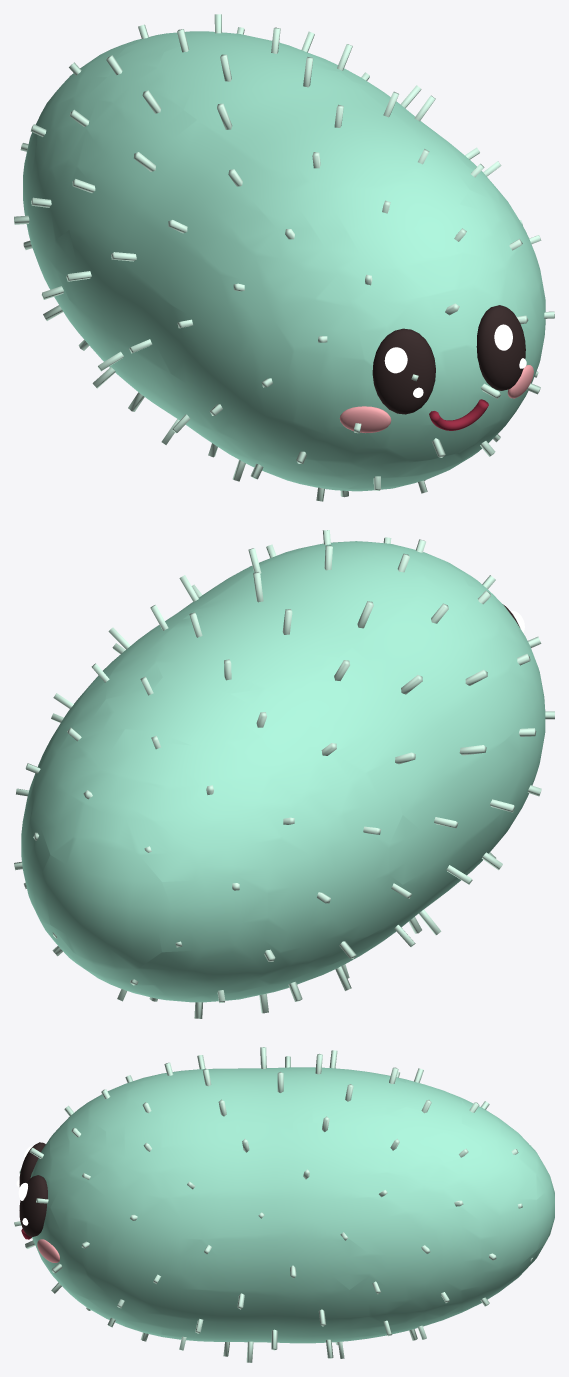
The model's file is P02_Para_Paramecium.glb.
The picture shows the model from 3 angles, top to bottom: view 1: azimuth 30°, elevation 25°; view 2: azimuth 150°, elevation 25°; view 3: azimuth 270°, elevation 25°; orthographic projection. The views are drawn at different scales.
Visible parts, largest first — view 1: P02_Para_Paramecium_Mesh, P02_Eye_L, P02_Eye_R, P02_Cheek_L, P02_Mouth; view 2: P02_Para_Paramecium_Mesh; view 3: P02_Para_Paramecium_Mesh, P02_Eye_R, P02_Eye_L.
Part boxes in pixels (bbox=[...]): P02_Para_Paramecium_Mesh: bbox=[14, 14, 554, 501]; P02_Eye_L: bbox=[372, 328, 435, 414]; P02_Eye_R: bbox=[476, 305, 525, 390]; P02_Cheek_L: bbox=[339, 406, 391, 432]; P02_Mouth: bbox=[429, 399, 488, 430]; P02_Para_Paramecium_Mesh: bbox=[14, 530, 554, 1018]; P02_Para_Paramecium_Mesh: bbox=[14, 1047, 554, 1362]; P02_Eye_R: bbox=[19, 1175, 47, 1236]; P02_Eye_L: bbox=[19, 1142, 45, 1186].
Size of the model in its own units: 0.4383 by 0.4173 by 0.7226.
